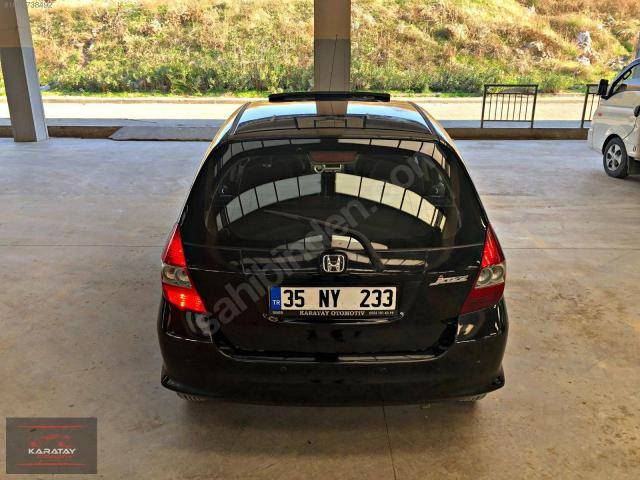plaka: (270, 286, 396, 317)
